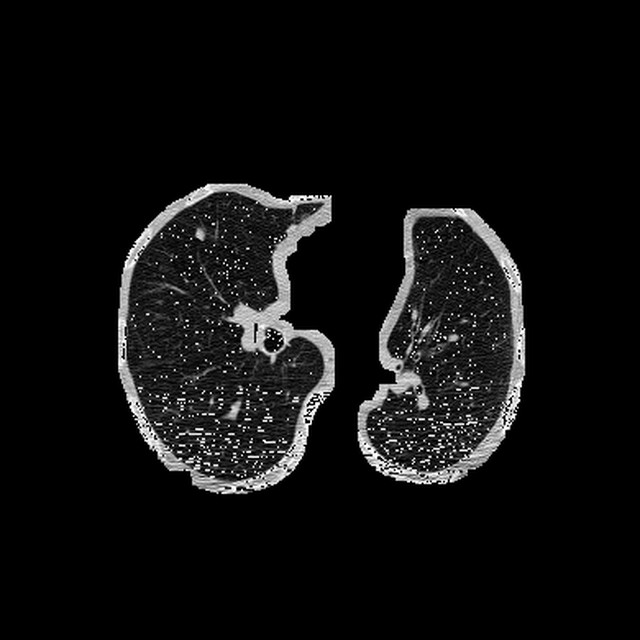PN: (194, 230, 203, 240)
